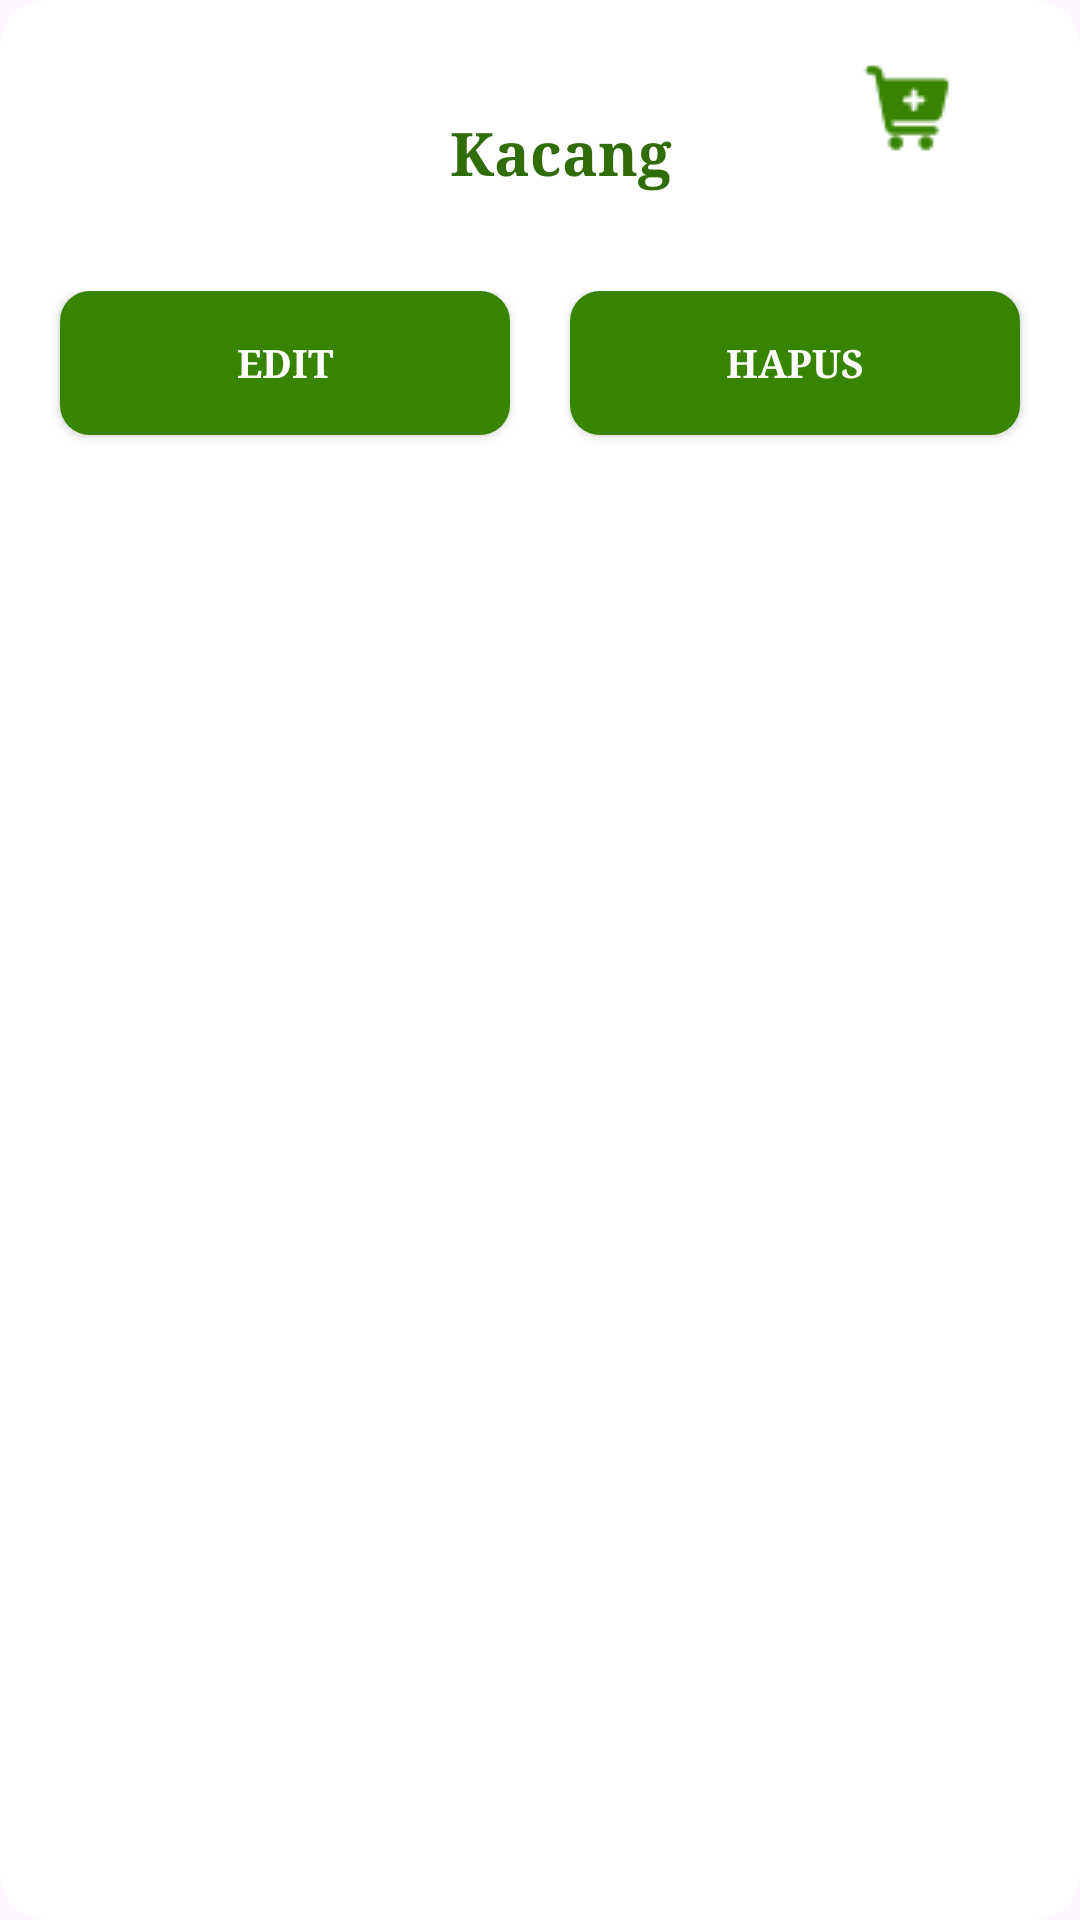

Icon click points for this 1080 x 1920 phone screenshot, format point (x, y):
Tambahkan ke daftar belanja: point (907, 108)
